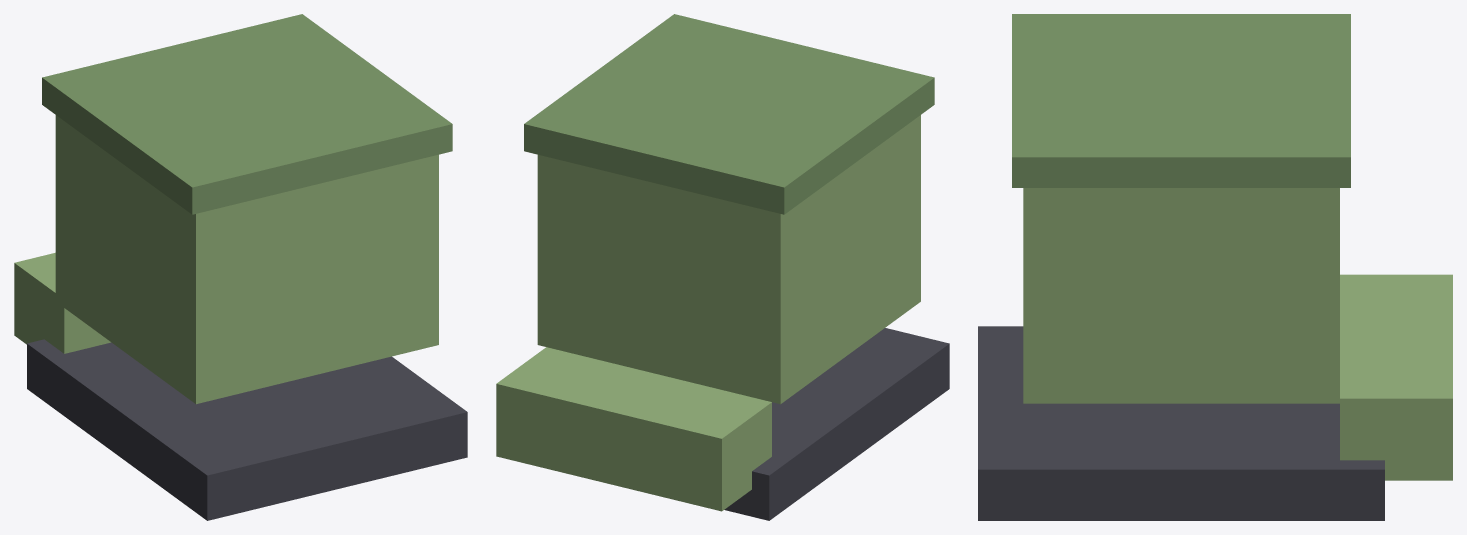
File: botas_borracha.glb
3 views of the same model, side by side, from view 1: azimuth 30°, elevation 25°; view 2: azimuth 150°, elevation 25°; view 3: azimuth 270°, elevation 25° (orthographic). The views are drawn at different scales.
Visible parts, largest first — view 1: botas_borracha; view 2: botas_borracha; view 3: botas_borracha.
Boxes of the visible parts, <box> form: botas_borracha: <box>14,14,467,520</box>; botas_borracha: <box>496,14,949,520</box>; botas_borracha: <box>978,14,1452,520</box>.
Size of the model in its own units: 0.3 by 0.355 by 0.42.
